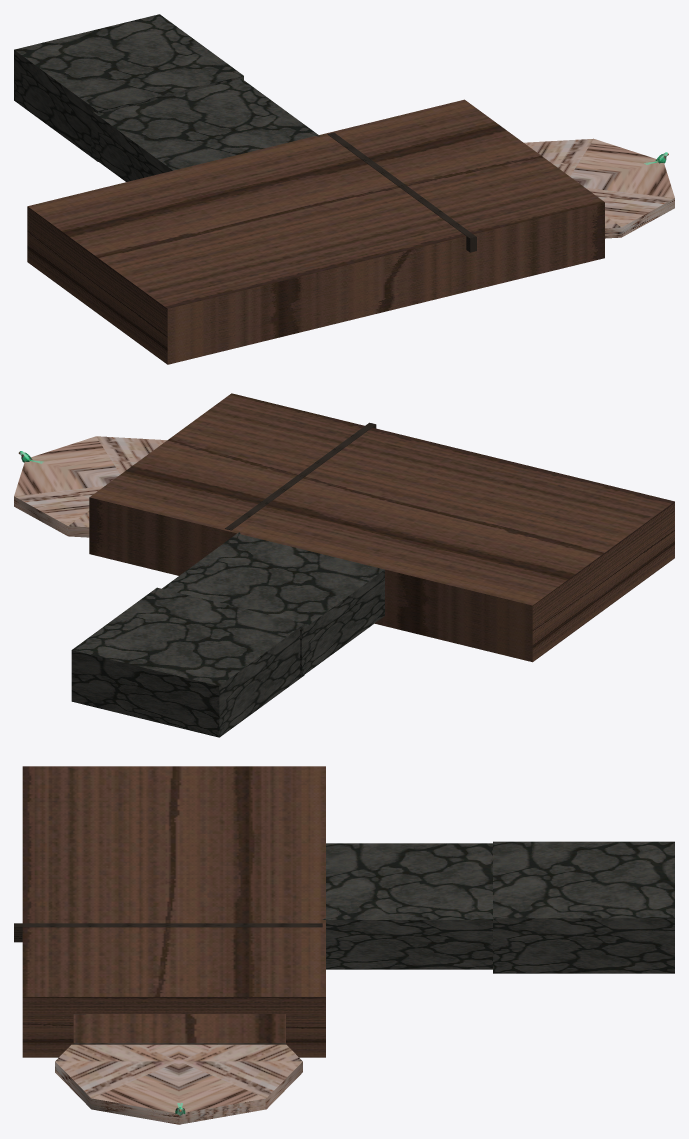
The model's file is mapv4.gltf.
3 views of the same model, one above another, from view 1: azimuth 30°, elevation 25°; view 2: azimuth 150°, elevation 25°; view 3: azimuth 270°, elevation 25° (orthographic). The views are drawn at different scales.
Visible parts, largest first — view 1: CSGCombiner3D2; view 2: CSGCombiner3D2; view 3: CSGCombiner3D2.
Boxes of the visible parts, x1,y1,x2,y2 form: CSGCombiner3D2: [14, 14, 674, 364]; CSGCombiner3D2: [14, 393, 674, 737]; CSGCombiner3D2: [14, 766, 674, 1124].
Bounding box in the file's own units: 118 × 11.5 × 109.
Materials: 30 (30 with a texture image).
